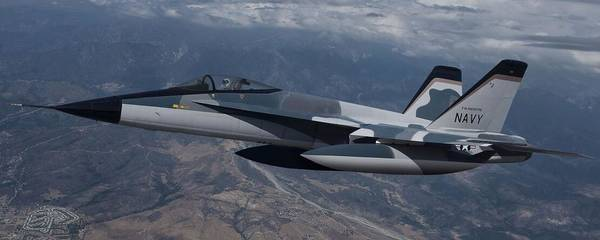airplane: (9, 51, 599, 169)
